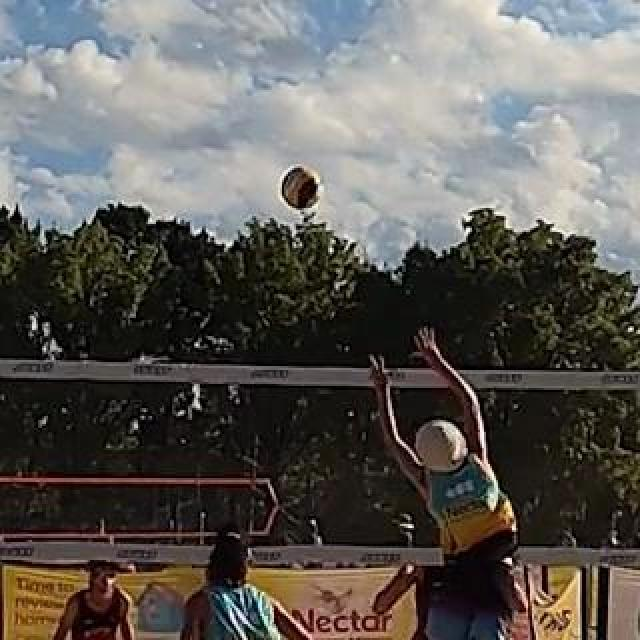volleyball: (280, 168, 322, 210)
